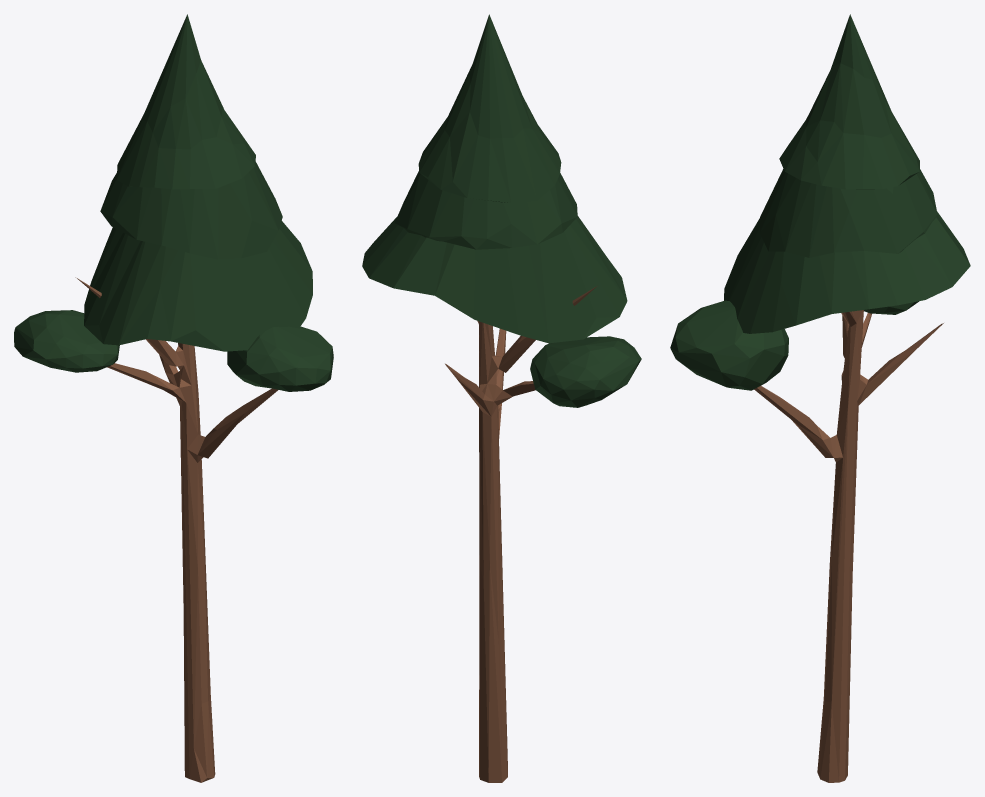
File: SM_tree_fantasy_07.fbx
3 views of the same model, side by side, from view 1: azimuth 30°, elevation 25°; view 2: azimuth 150°, elevation 25°; view 3: azimuth 270°, elevation 25° (orthographic).
Parts seen in each view (by area): view 1: Object235; view 2: Object235; view 3: Object235.
Boxes of the visible parts, x1,y1,x2,y2 form: Object235: (14,14,333,782); Object235: (362,14,641,782); Object235: (670,14,970,782).
Size of the model in its own units: 130 by 132 by 369.
